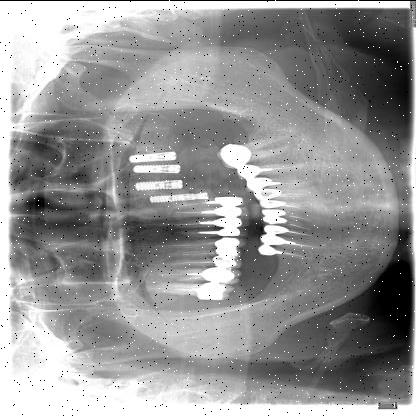ITI: (128, 177, 188, 191), (119, 150, 187, 162), (141, 192, 209, 204), (130, 164, 182, 176)
